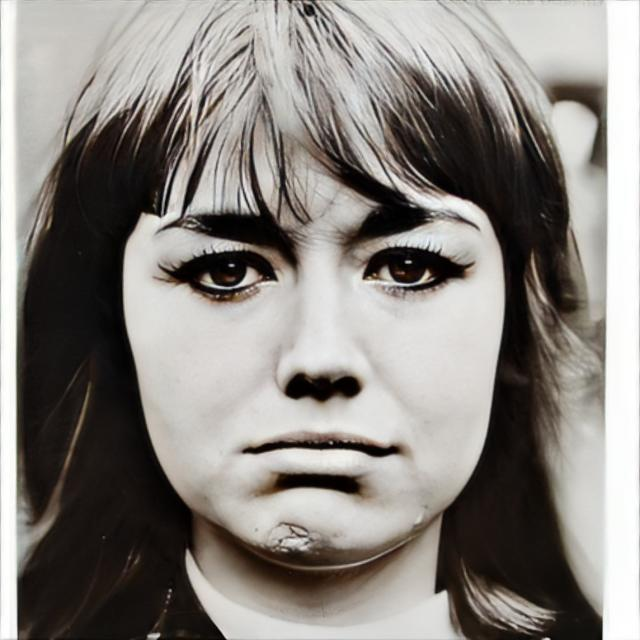sad: (121, 102, 507, 568)
